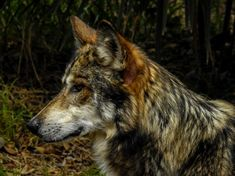Lobo: (22, 10, 208, 161)
